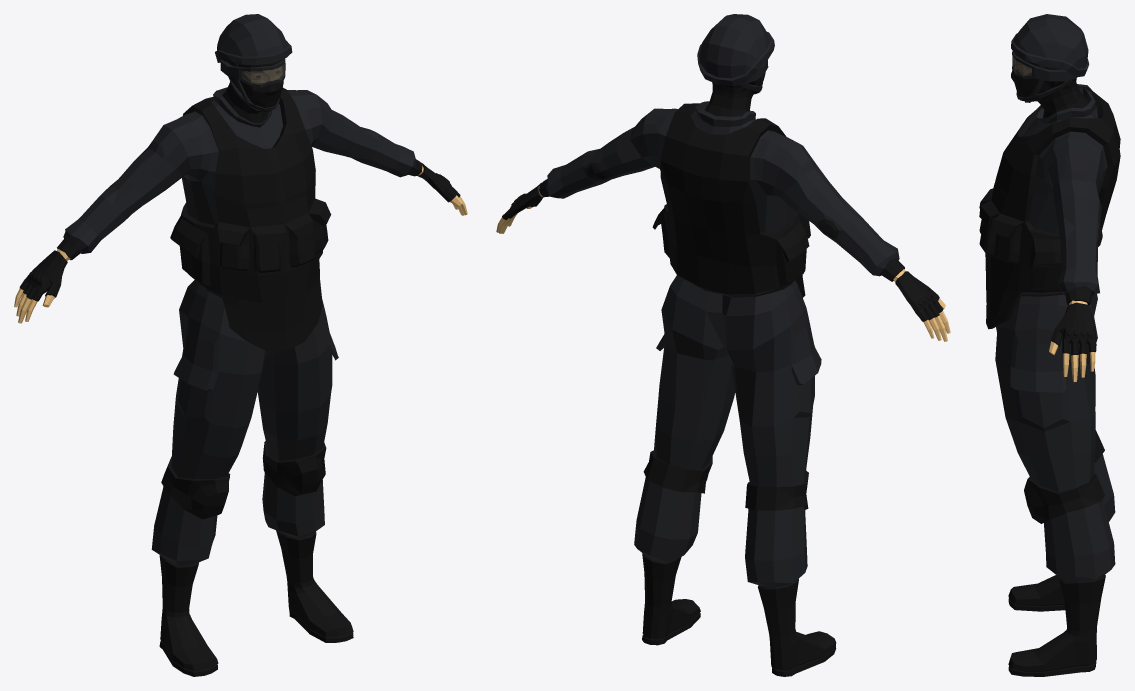
The model's file is SM_M_Soldier_M01.fbx.
3 views of the same model, side by side, from view 1: azimuth 30°, elevation 25°; view 2: azimuth 150°, elevation 25°; view 3: azimuth 270°, elevation 25° (orthographic).
Parts seen in each view (by area): view 1: Sphere, Sphere.002, Sphere.001; view 2: Sphere, Sphere.002; view 3: Sphere, Sphere.002, Sphere.001.
Part boxes in pixels (x1,y1,x2,y2): Sphere: (14,59,467,676); Sphere.002: (215,14,292,110); Sphere.001: (220,58,285,87); Sphere: (496,72,950,676); Sphere.002: (697,14,774,94); Sphere: (979,59,1120,676); Sphere.002: (1011,14,1089,102); Sphere.001: (1012,51,1076,81).
Bounding box in the file's own units: 129 × 172 × 35.66.
